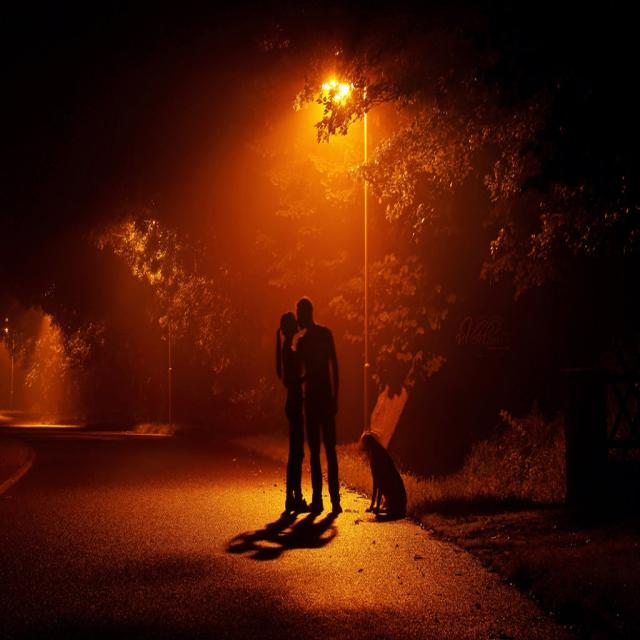Dog: (353, 398, 419, 526)
